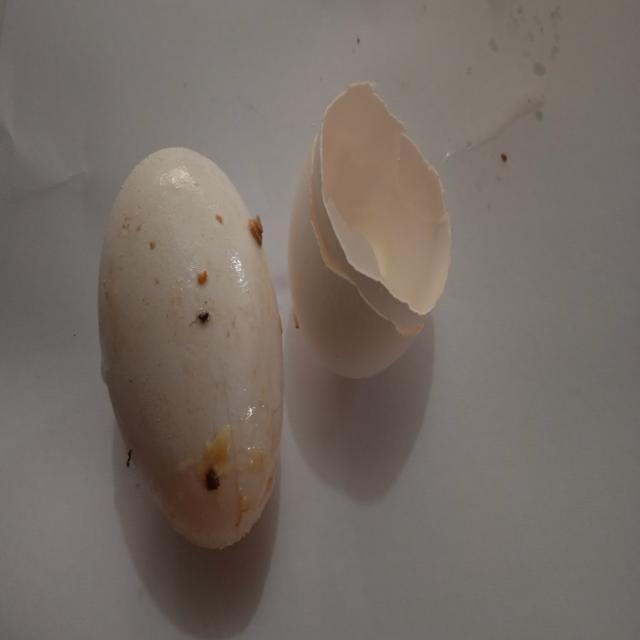egg shell: (97, 150, 286, 551), (284, 78, 452, 384)
